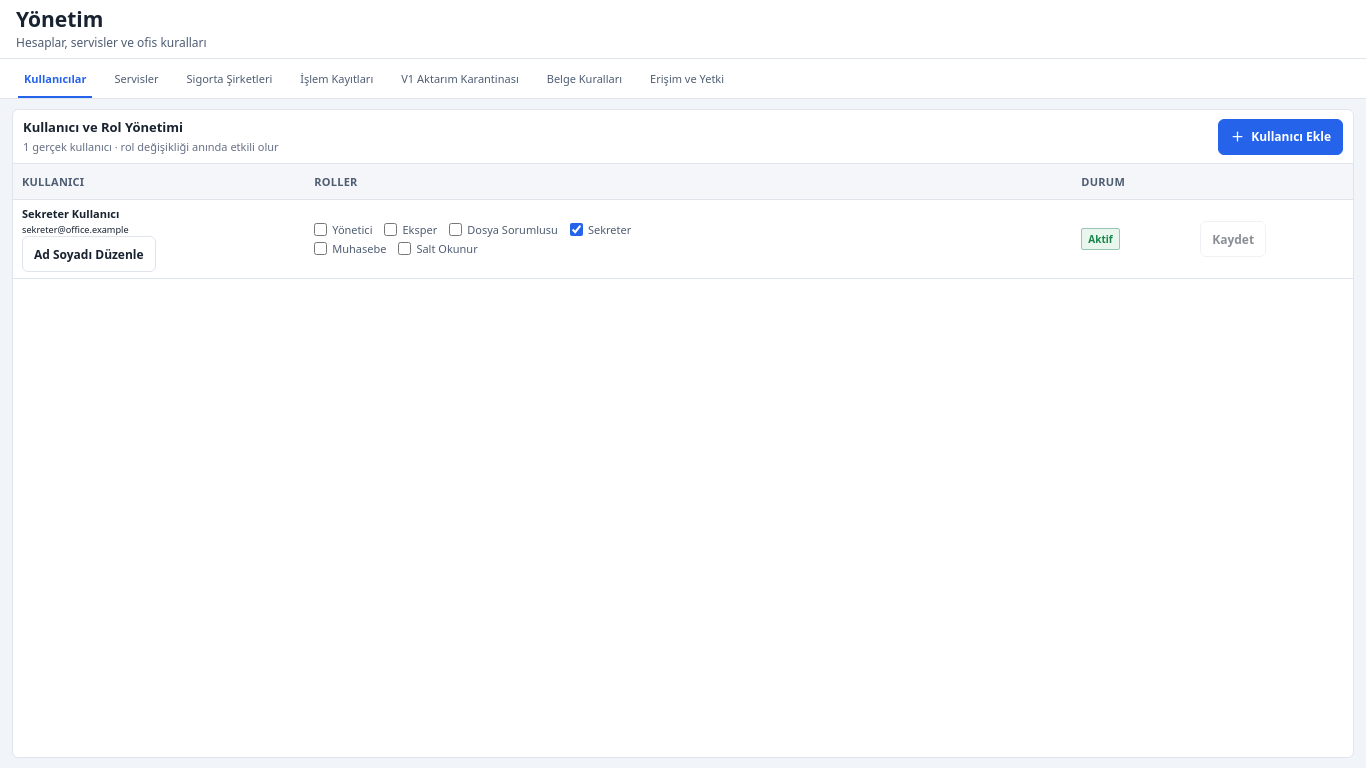
ManagementPage — HB-011 gerçek rol ataması (yalnız admin) › lets the administrator rename another user through the real profile port
Click the button with aria-label "Sekreter Kullanıcı ad soyadını düzenle" at coordinates (89, 254), box [22,236,156,272]
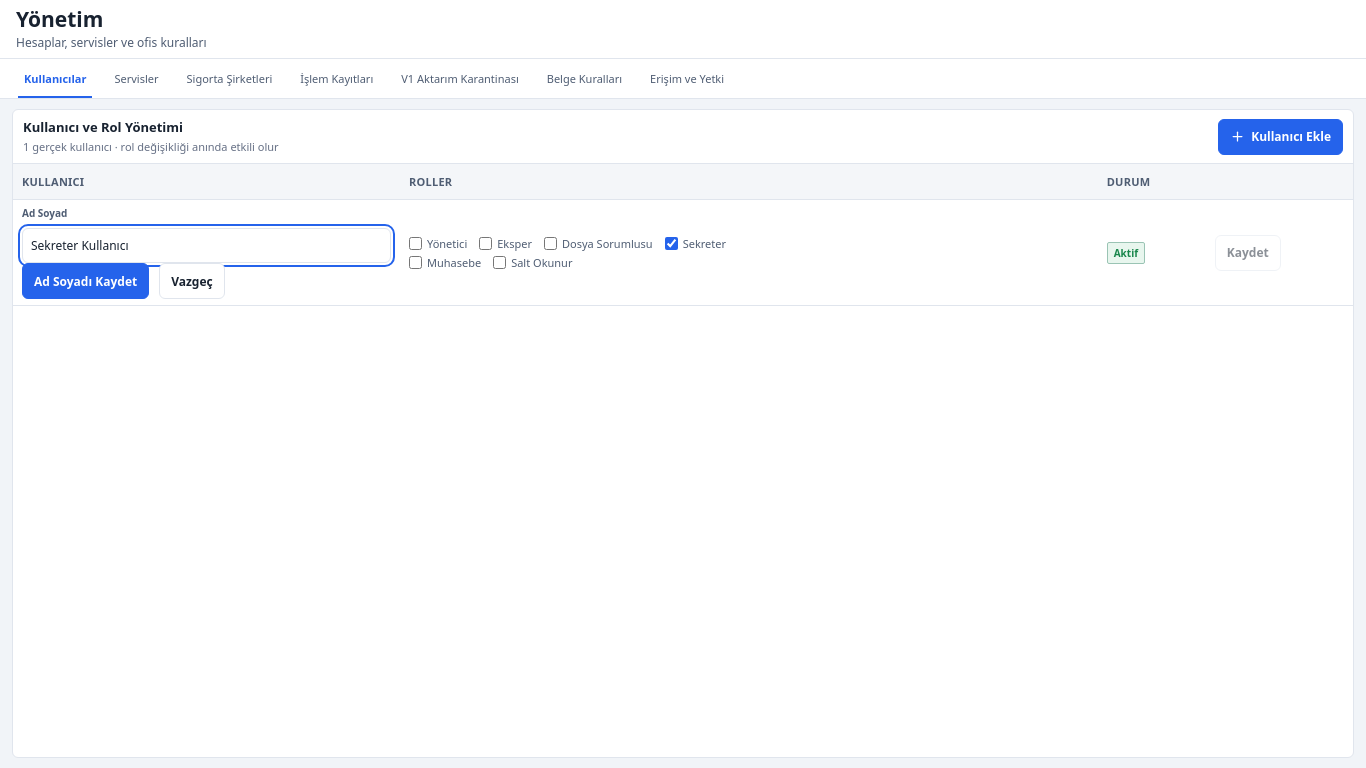
Replace the text in the field named "Ad Soyad: sekreter@office.example" with "Güncel Ad Soyad" at coordinates (206, 246), box [22,228,391,263]
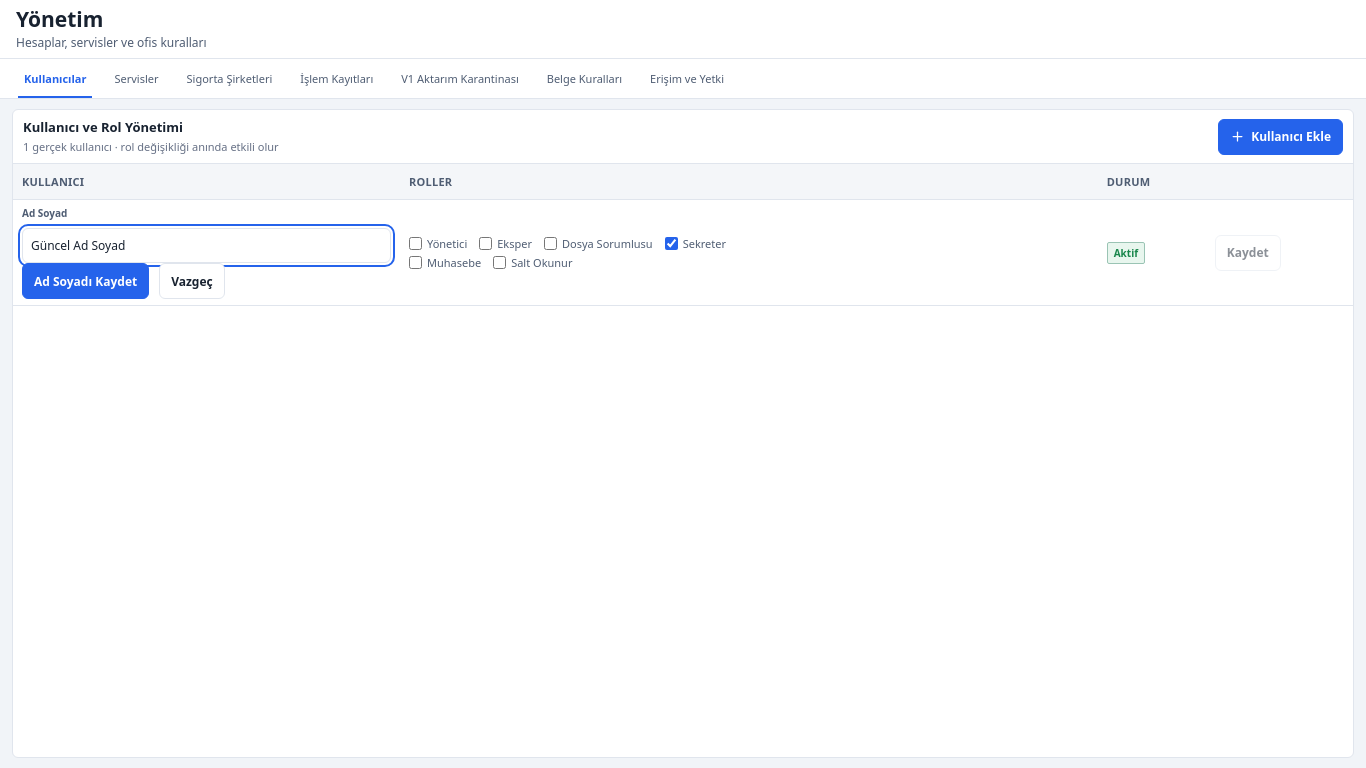
Click the button "Ad Soyadı Kaydet" at coordinates (86, 281), box [22,263,149,299]
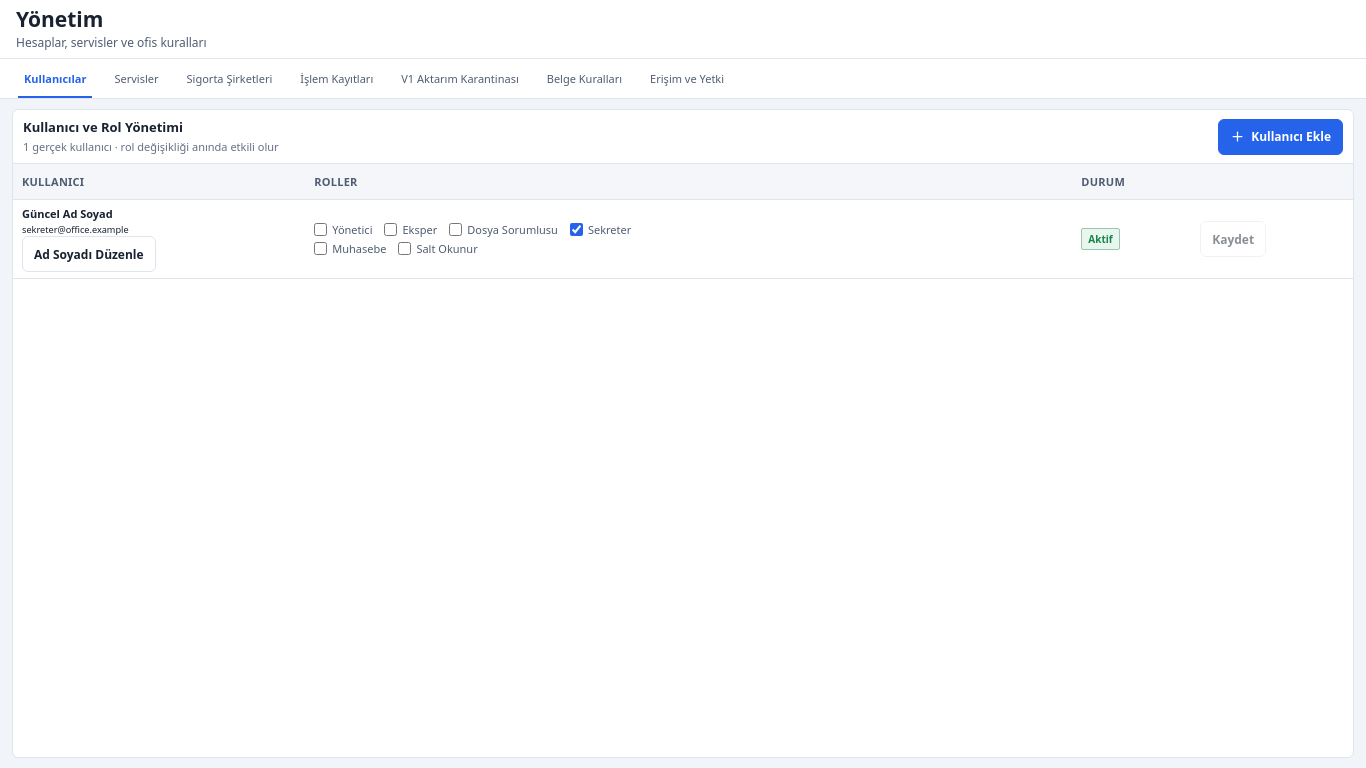
Check: the text "Güncel Ad Soyad" is shown, box [22,206,113,221]
